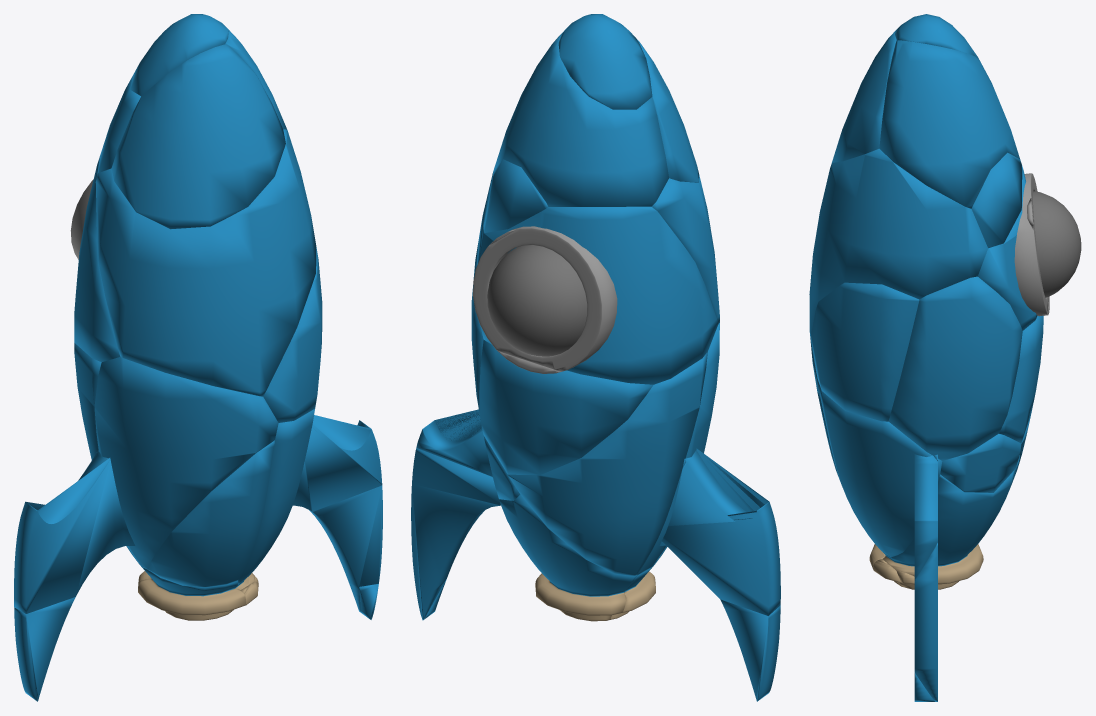
Rendered from Ship Sky Blue Fractured.fbx.
3 renders of one model, left to right at view 1: azimuth 30°, elevation 25°; view 2: azimuth 150°, elevation 25°; view 3: azimuth 270°, elevation 25°, orthographic. The views are drawn at different scales.
Visible parts, largest first — view 1: Body_shard, Body_shard.006, Body_shard.010, Body_shard.005, Body_shard.015, Body_shard.013, Body_shard.009, Body_shard.011, Body_shard.017, Body_shard.008, Body_shard.001, Body_shard.014 (+1 smaller); view 2: Body_shard.009, Body_shard.014, Body_shard.001, Body_shard.006, Body_shard.016, Body_shard.011, Body_shard.004, Body_shard.008, Body_shard.013, Body_shard, Body_shard.005, Body_shard.012 (+3 smaller); view 3: Body_shard, Body_shard.007, Body_shard.001, Body_shard.005, Body_shard.017, Body_shard.009, Body_shard.004, Body_shard.010, Body_shard.012, Body_shard.011, Body_shard.002, Body_shard.016 (+2 smaller).
Part boxes in pixels (<box>): Body_shard: <box>95,129,316,396</box>; Body_shard.006: <box>14,357,278,613</box>; Body_shard.010: <box>111,44,285,229</box>; Body_shard.005: <box>238,409,382,593</box>; Body_shard.015: <box>148,440,274,587</box>; Body_shard.013: <box>14,561,245,701</box>; Body_shard.009: <box>70,155,120,362</box>; Body_shard.011: <box>254,485,382,611</box>; Body_shard.017: <box>263,247,322,422</box>; Body_shard.008: <box>130,14,228,96</box>; Body_shard.001: <box>97,26,286,173</box>; Body_shard.014: <box>74,343,134,557</box>; Body_shard.009: <box>473,206,718,384</box>; Body_shard.014: <box>508,351,707,576</box>; Body_shard.001: <box>492,27,668,206</box>; Body_shard.006: <box>636,323,780,615</box>; Body_shard.016: <box>479,340,653,474</box>; Body_shard.011: <box>411,448,500,620</box>; Body_shard.004: <box>492,477,636,621</box>; Body_shard.008: <box>558,14,652,109</box>; Body_shard.013: <box>610,562,780,701</box>; Body_shard: <box>478,172,719,323</box>; Body_shard.005: <box>416,409,492,476</box>; Body_shard.012: <box>483,159,548,245</box>; Body_shard: <box>809,148,987,337</box>; Body_shard.007: <box>888,276,1022,460</box>; Body_shard.001: <box>879,40,1019,208</box>; Body_shard.005: <box>818,380,942,580</box>; Body_shard.017: <box>811,282,919,421</box>; Body_shard.009: <box>978,165,1081,330</box>; Body_shard.004: <box>883,455,1019,589</box>; Body_shard.010: <box>832,31,896,162</box>; Body_shard.012: <box>971,152,1033,248</box>; Body_shard.011: <box>896,543,937,701</box>; Body_shard.002: <box>940,434,1021,492</box>; Body_shard.016: <box>999,296,1049,442</box>.
Size of the model in its own units: 339 by 581 by 235.
